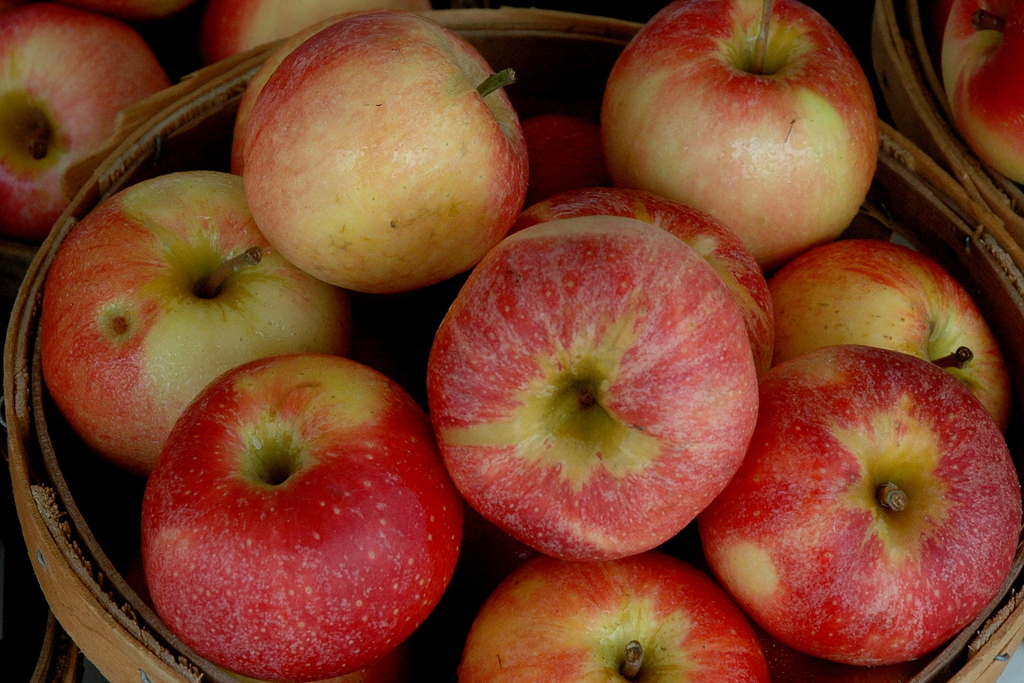Apple: (31, 8, 1023, 682), (605, 0, 878, 257), (0, 5, 176, 249), (938, 0, 1023, 190), (195, 0, 427, 58)
